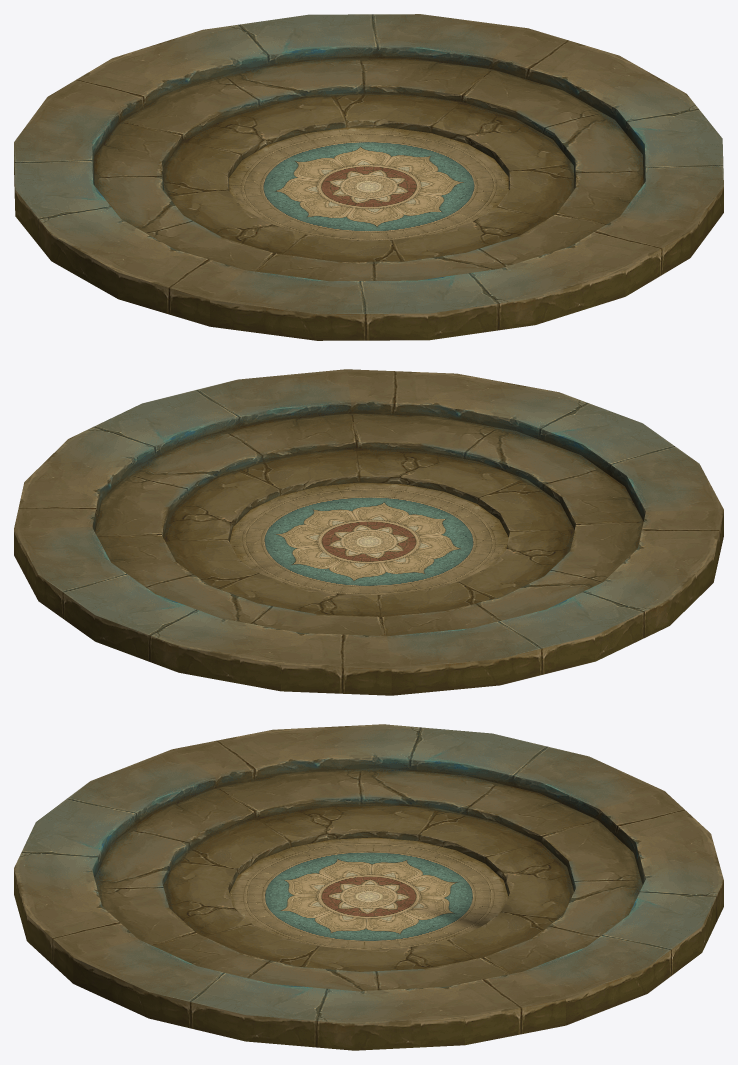
Rendered from 1003_Item_yuantai_1.FBX.
3 views of the same model, one above another, from view 1: azimuth 30°, elevation 25°; view 2: azimuth 150°, elevation 25°; view 3: azimuth 270°, elevation 25° (orthographic).
Visible parts, largest first — view 1: 1003_Item_yuantai_1; view 2: 1003_Item_yuantai_1; view 3: 1003_Item_yuantai_1.
Part boxes in pixels (box(x1,y1,x2,y2)): 1003_Item_yuantai_1: box(14, 14, 723, 340); 1003_Item_yuantai_1: box(14, 369, 723, 695); 1003_Item_yuantai_1: box(14, 724, 723, 1050).
Size of the model in its own units: 503 by 503 by 20.66.
1 material, 1 textured.
